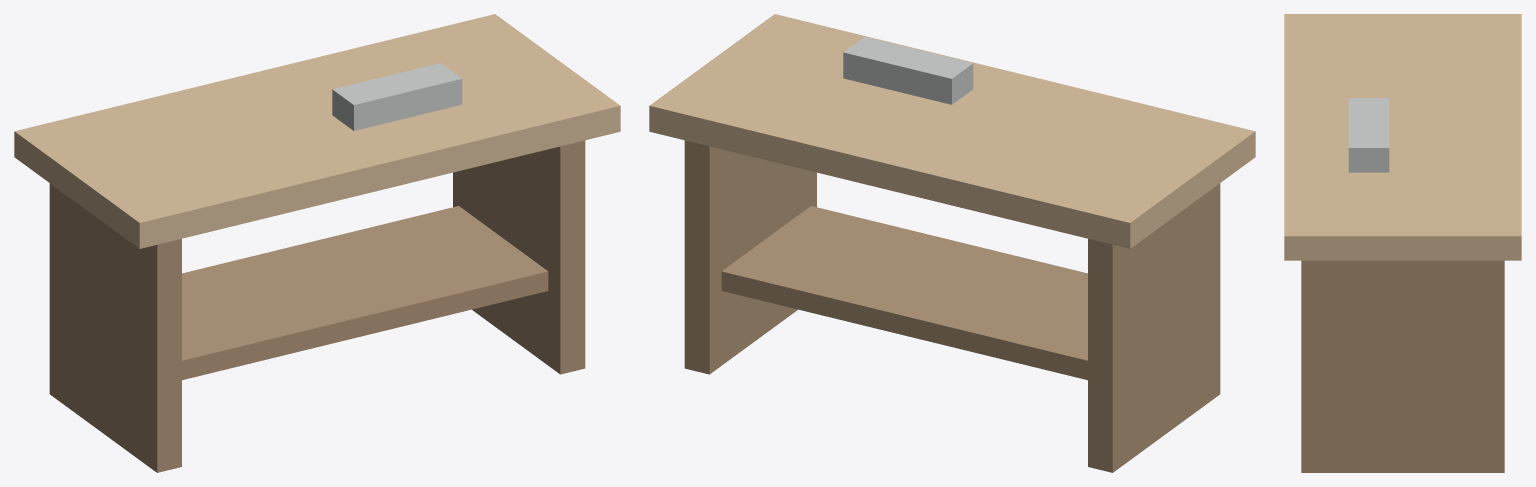
The model's file is wood-bench.glb.
The picture shows the model from 3 angles, left to right: view 1: azimuth 30°, elevation 25°; view 2: azimuth 150°, elevation 25°; view 3: azimuth 270°, elevation 25°; orthographic projection. The views are drawn at different scales.
Parts seen in each view (by area): view 1: root; view 2: root; view 3: root.
Boxes of the visible parts, <box> form: root: <box>14,14,620,472</box>; root: <box>649,14,1255,472</box>; root: <box>1284,14,1521,472</box>.
Bounding box in the file's own units: 1.55 × 0.91 × 0.7.
